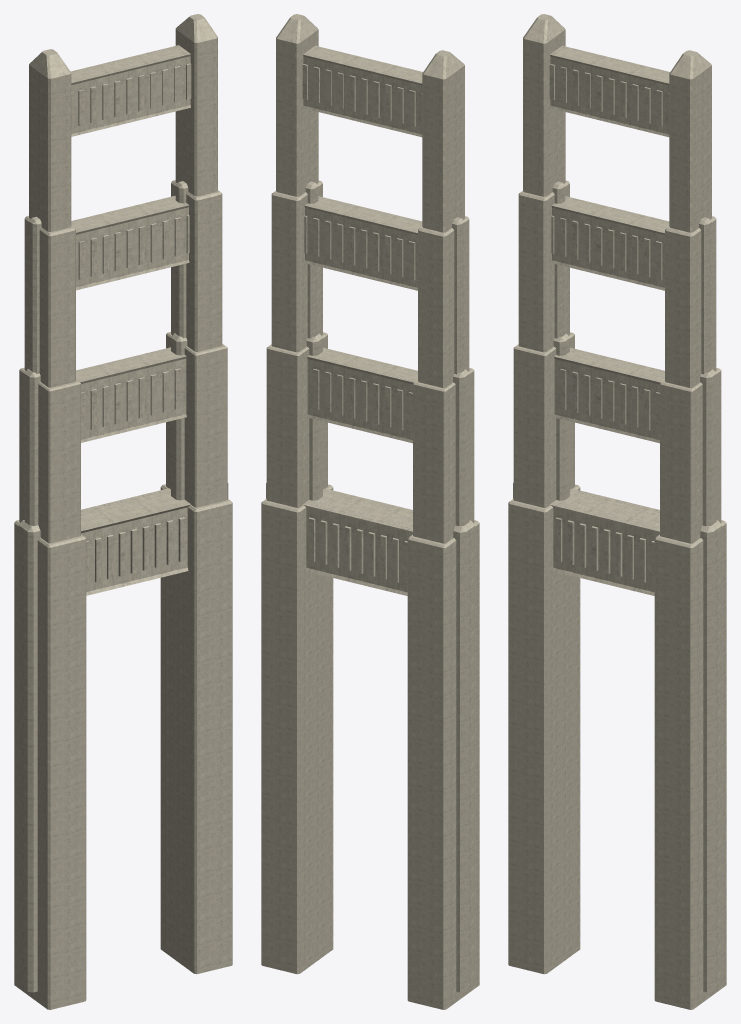
The model's file is BridgeSuspensionPillar-2L.FBX.
3 views of the same model, side by side, from view 1: azimuth 30°, elevation 25°; view 2: azimuth 150°, elevation 25°; view 3: azimuth 330°, elevation 25° (orthographic).
Parts seen in each view (by area): view 1: SuspLPillar-2L; view 2: SuspLPillar-2L; view 3: SuspLPillar-2L.
Boxes of the visible parts, left/top/right/bottom form: SuspLPillar-2L: left=14, top=14, right=232, bottom=1009; SuspLPillar-2L: left=261, top=14, right=479, bottom=1009; SuspLPillar-2L: left=508, top=14, right=726, bottom=1009.
Bounding box in the file's own units: 52 × 233 × 16.
